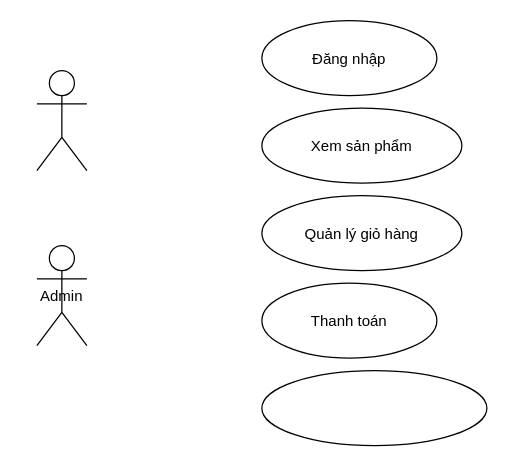
This 508x466 diagram has some shape labels left out. Here are the shapes that lost their labels. From the top down, the centre of each, then its label:
pixel 61 120: Khách hàng
pixel 374 407: Quản lý sản phẩm
